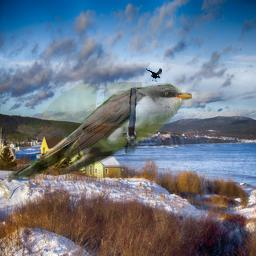Crow: (145, 68, 162, 82)
Cuckoo: (5, 82, 192, 180)
